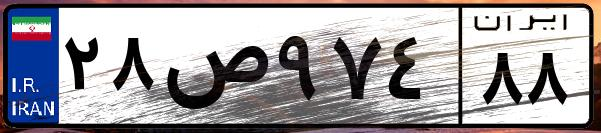2: (57, 26, 110, 100)
4: (385, 28, 445, 110)
7: (330, 28, 385, 110)
8: (475, 38, 525, 113), (525, 38, 570, 115), (110, 28, 158, 98)
9: (270, 28, 330, 110)
ص: (158, 20, 270, 120)
